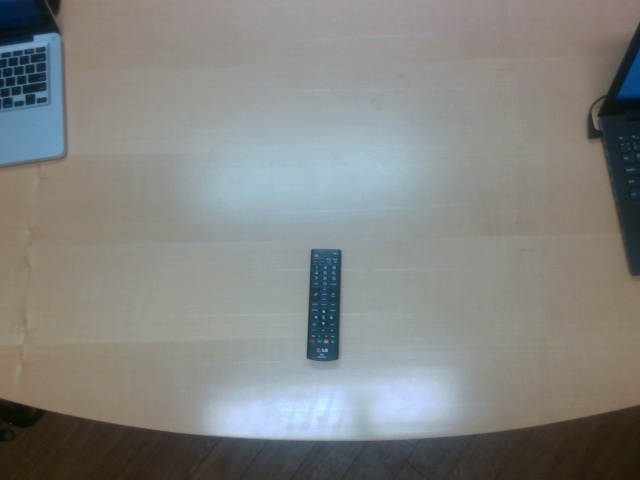remote: (310, 248, 340, 360)
